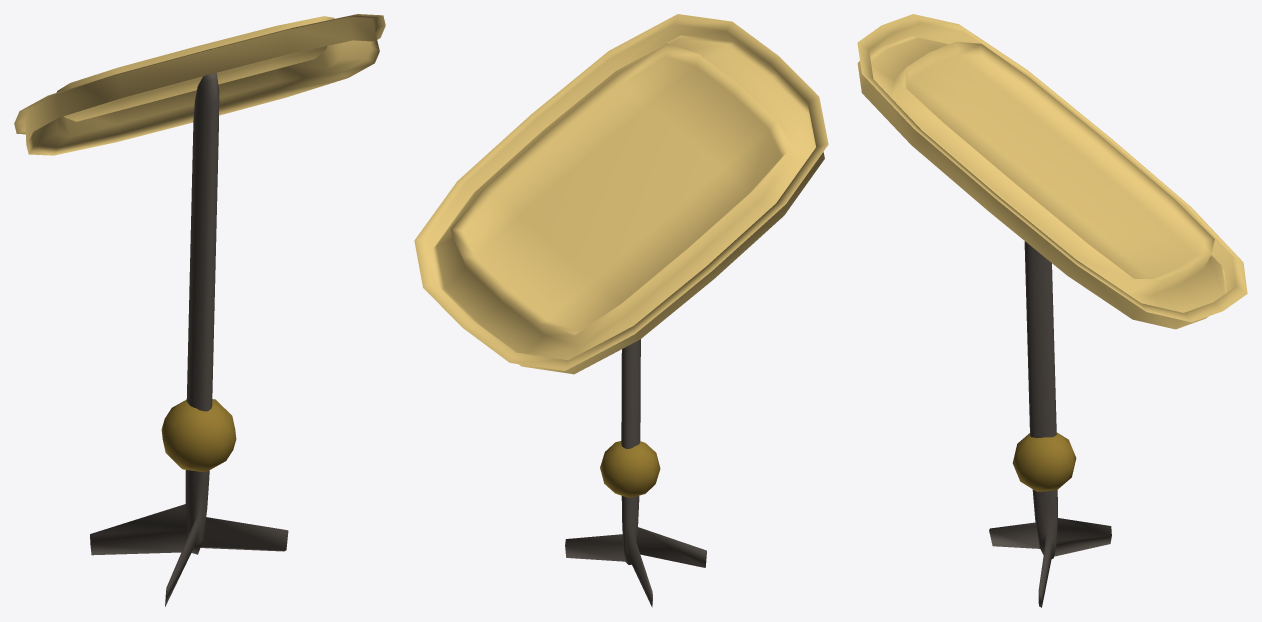
Rendered from machine_part3.glb.
The picture shows the model from 3 angles, left to right: view 1: azimuth 30°, elevation 25°; view 2: azimuth 150°, elevation 25°; view 3: azimuth 270°, elevation 25°; orthographic projection. The views are drawn at different scales.
Parts seen in each view (by area): view 1: maquina_part3; view 2: maquina_part3; view 3: maquina_part3.
Part boxes in pixels (x1,y1,x2,y2): maquina_part3: [14, 14, 385, 606]; maquina_part3: [414, 14, 828, 607]; maquina_part3: [857, 14, 1247, 607].
Size of what is drawn, in the model's own units: 2.5 by 3.6 by 2.43.
